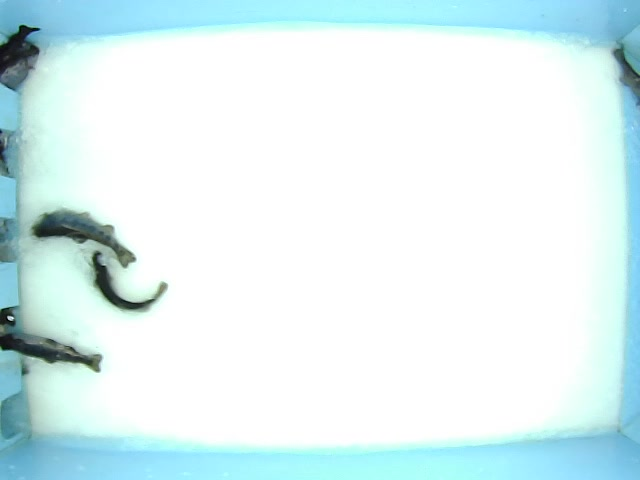fish: (31, 209, 137, 268), (90, 251, 170, 312), (1, 332, 105, 373)
